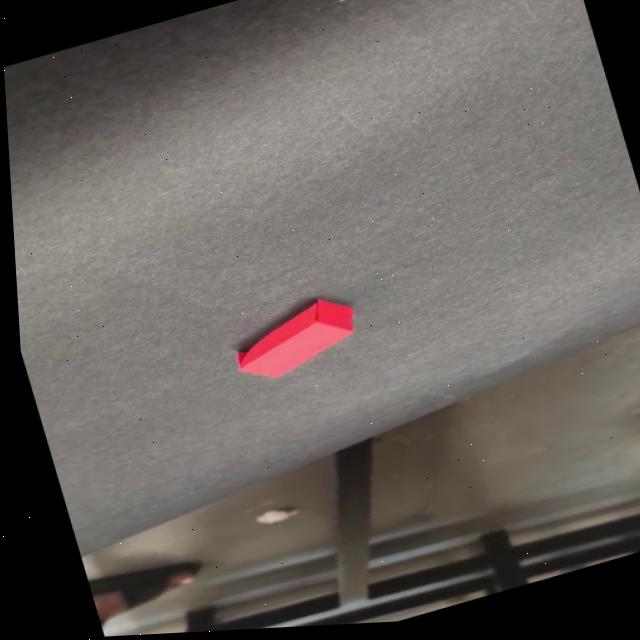red block: (223, 288, 368, 388)
